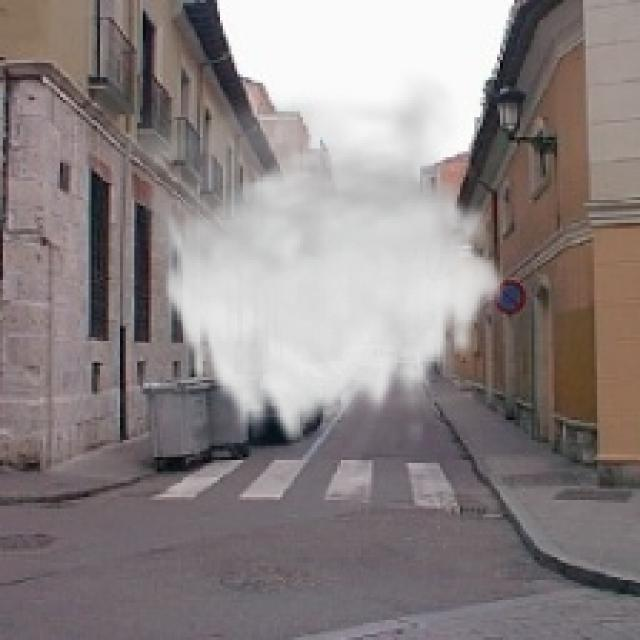Smoke: (89, 68, 508, 454)
